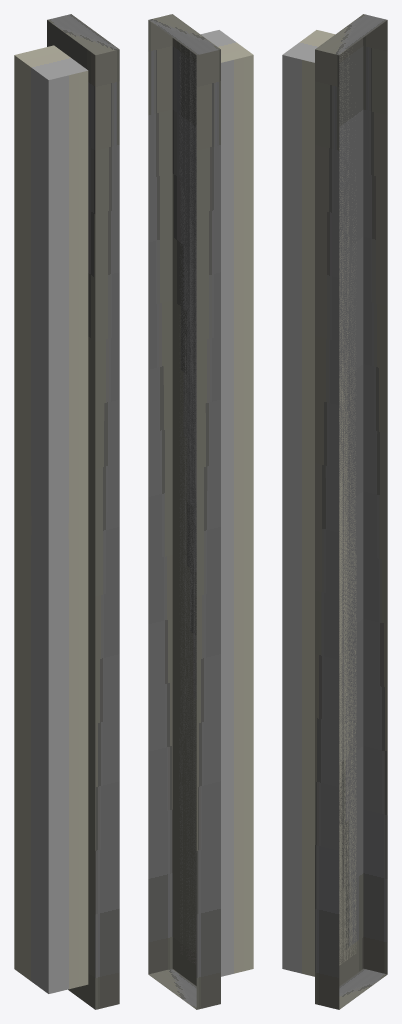
The model's file is pz_native_lighting_indoor_02_83_wall_lamp.obj.
The picture shows the model from 3 angles, left to right: view 1: azimuth 30°, elevation 25°; view 2: azimuth 210°, elevation 25°; view 3: azimuth 330°, elevation 25°; orthographic projection.
Parts seen in each view (by area): view 1: pz_native_lighting_indoor_02_83_wall_lamp; view 2: pz_native_lighting_indoor_02_83_wall_lamp; view 3: pz_native_lighting_indoor_02_83_wall_lamp.
Boxes of the visible parts, x1,y1,x2,y2 form: pz_native_lighting_indoor_02_83_wall_lamp: (14, 14, 119, 1009); pz_native_lighting_indoor_02_83_wall_lamp: (148, 14, 253, 1009); pz_native_lighting_indoor_02_83_wall_lamp: (282, 14, 387, 1009).
Bounding box in the file's own units: 0.0648 × 0.9236 × 0.085.
Materials: 1 (1 with a texture image).
